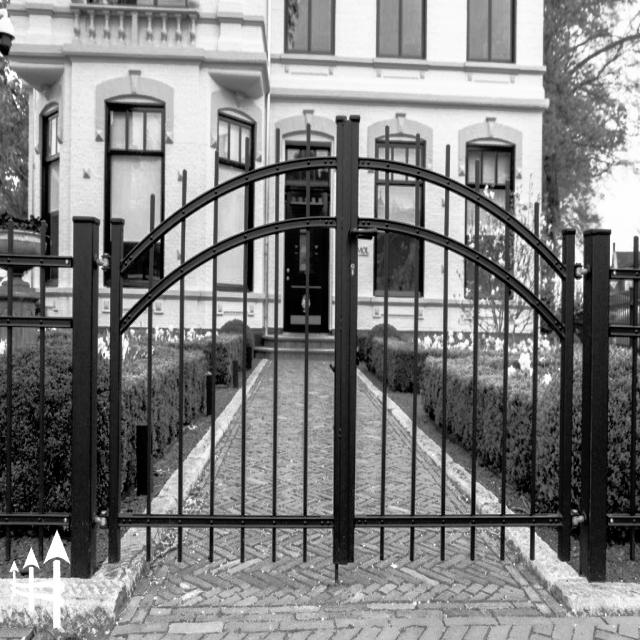fences: (13, 200, 640, 535)
